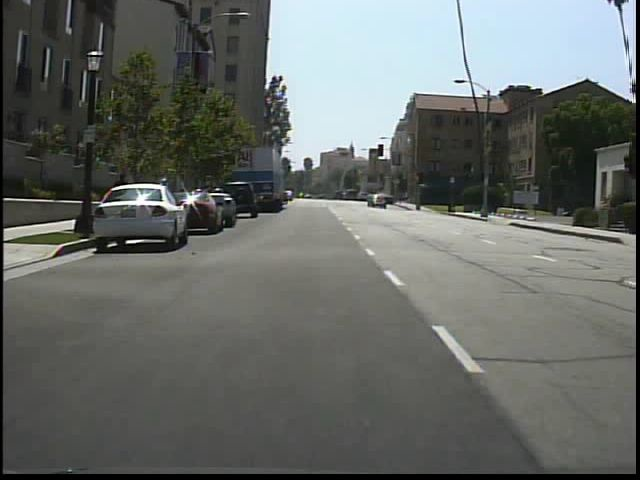person: (113, 167, 134, 219), (154, 172, 174, 186)
